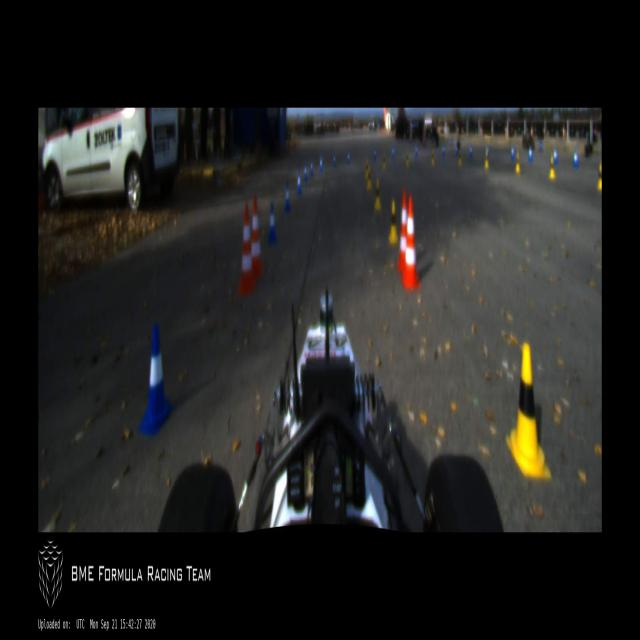blue_cone: (137, 322, 174, 436), (268, 202, 276, 243), (284, 182, 291, 212), (296, 170, 302, 194), (573, 148, 579, 167), (510, 144, 516, 160), (529, 144, 533, 163), (554, 147, 558, 165), (310, 160, 314, 176), (319, 156, 323, 172), (304, 163, 307, 182), (414, 144, 418, 158), (455, 145, 459, 157), (333, 152, 336, 167), (347, 152, 350, 164), (442, 145, 445, 157), (470, 144, 472, 158), (374, 148, 376, 160), (392, 146, 394, 158), (487, 145, 489, 157)
large_orange_cone: (236, 203, 256, 295), (402, 194, 421, 288), (397, 189, 407, 276), (252, 194, 262, 278)
yellow_cone: (506, 342, 550, 478), (388, 200, 398, 245), (374, 179, 381, 211), (549, 154, 556, 178), (515, 150, 521, 174), (597, 163, 602, 191), (366, 168, 372, 190), (484, 151, 489, 169), (405, 150, 410, 168), (382, 152, 386, 170), (458, 149, 462, 166), (365, 159, 368, 179), (432, 149, 434, 165)
